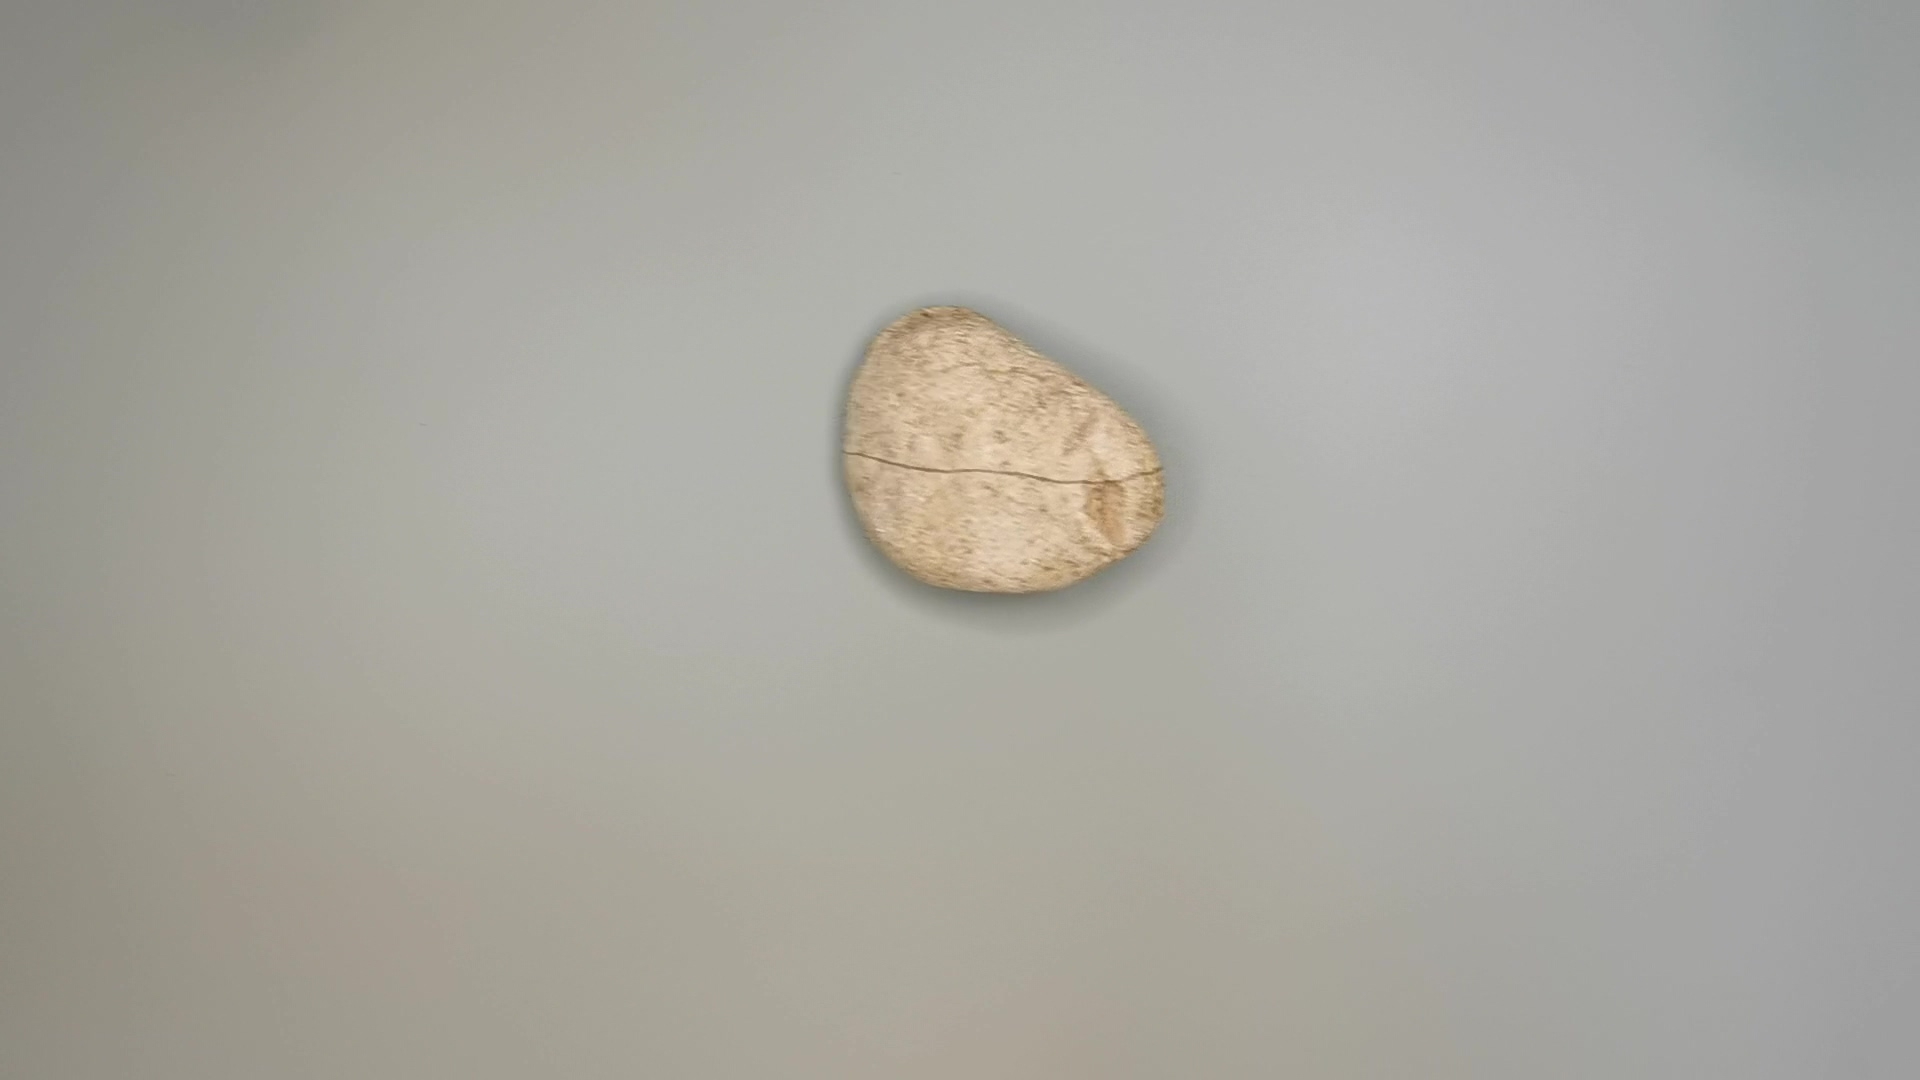ceramic: (825, 297, 1182, 612)
